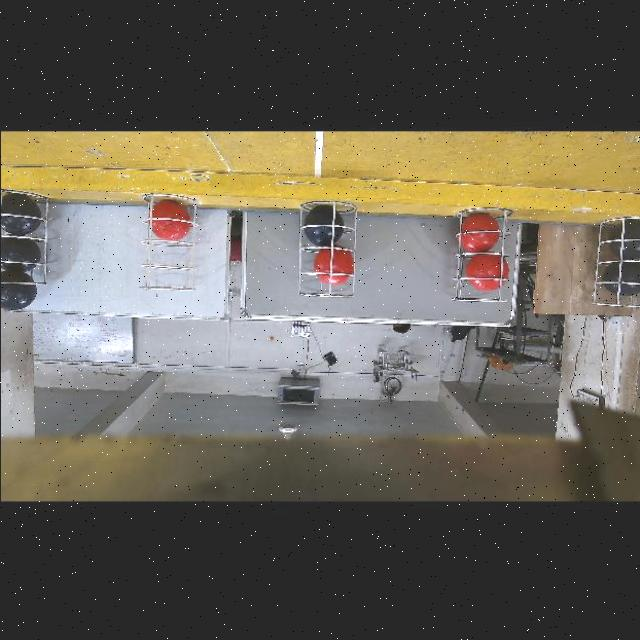P: (0, 194, 43, 235), (303, 205, 343, 246), (0, 237, 40, 273), (0, 271, 36, 310), (602, 262, 640, 296), (608, 222, 640, 260)
R: (148, 200, 190, 240), (459, 212, 498, 251), (466, 254, 508, 290), (312, 249, 353, 284)
S: (447, 198, 511, 306), (292, 192, 354, 296), (141, 186, 195, 292), (592, 214, 640, 310), (1, 198, 52, 288)
